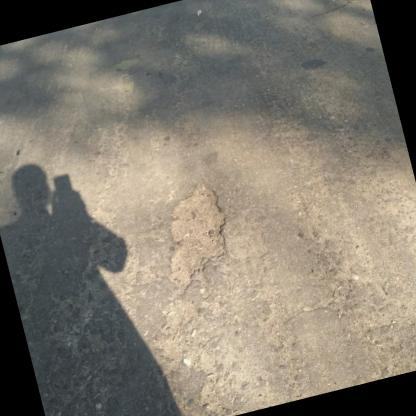pothole: (146, 178, 242, 292)
